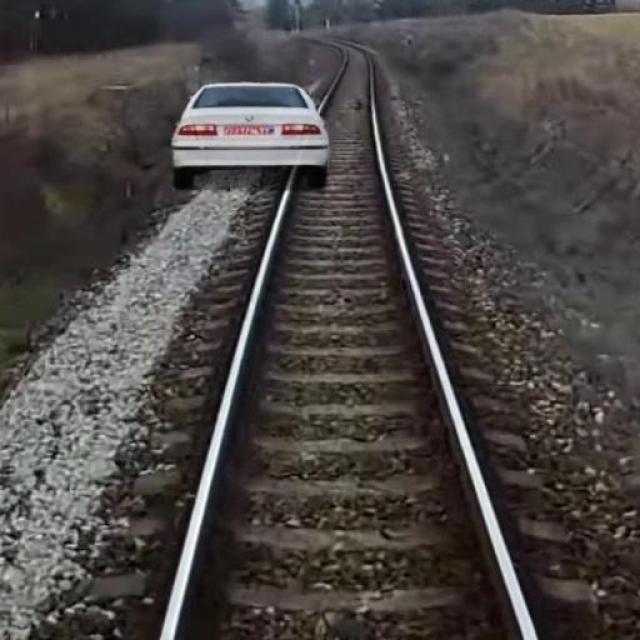vehicle: (168, 70, 332, 189)
